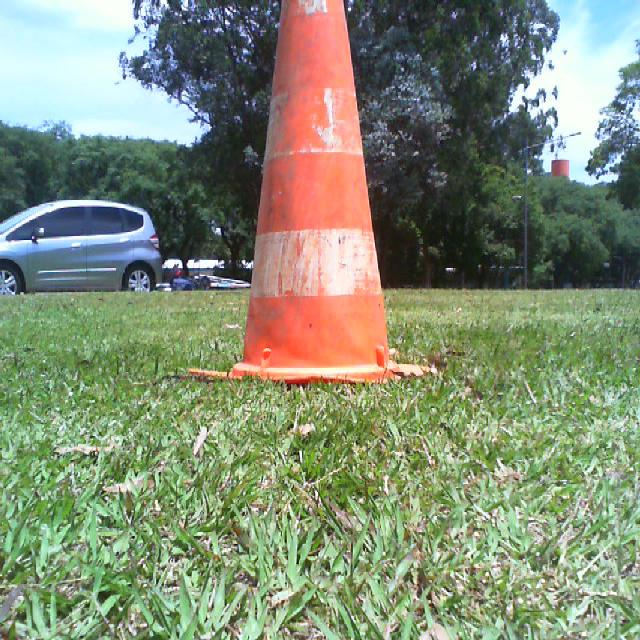cone: (185, 0, 432, 391)
